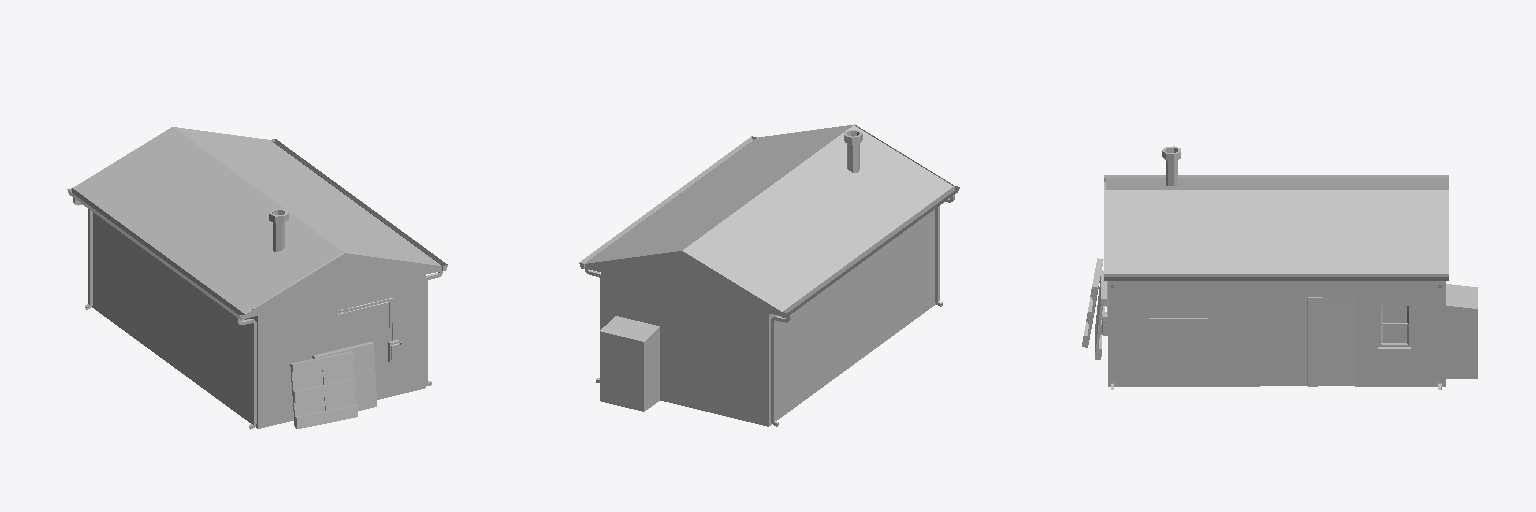
The model's file is Building7.obj.
The picture shows the model from 3 angles: view 1: azimuth 30°, elevation 25°; view 2: azimuth 150°, elevation 25°; view 3: azimuth 270°, elevation 25°; orthographic projection.
Parts seen in each view (by area): view 1: building_01_roof, building_01, Pallet.001, building_01_guttertop.001, Pallet, building_01_guttertop, building_01_gutter_tall.002, building_01_exhaustpipe, building_01_gutter_tall.003; view 2: building_01_roof, building_01, Propane_Storage, building_01_guttertop.001, building_01_guttertop, building_01_gutter_tall.003, building_01_exhaustpipe, building_01_gutter_tall.002; view 3: building_01_roof, building_01, Door_Shed_A.001, Propane_Storage, building_01_vent, building_01_guttertop, window_modern, building_01_guttertop.001, Pallet, Pallet.001, building_01_exhaustpipe.
Boxes of the visible parts, x1=… form: building_01_roof: x1=73, y1=127, x2=441, y2=318; building_01: x1=92, y1=212, x2=425, y2=428; Pallet.001: x1=290, y1=351, x2=357, y2=428; building_01_guttertop.001: x1=67, y1=188, x2=244, y2=320; Pallet: x1=312, y1=342, x2=376, y2=410; building_01_guttertop: x1=271, y1=139, x2=447, y2=270; building_01_gutter_tall.002: x1=236, y1=315, x2=256, y2=429; building_01_exhaustpipe: x1=269, y1=209, x2=288, y2=251; building_01_gutter_tall.003: x1=73, y1=198, x2=92, y2=309; building_01_roof: x1=585, y1=124, x2=953, y2=315; building_01: x1=601, y1=209, x2=935, y2=426; Propane_Storage: x1=600, y1=316, x2=659, y2=411; building_01_guttertop.001: x1=782, y1=186, x2=959, y2=317; building_01_guttertop: x1=579, y1=136, x2=756, y2=268; building_01_gutter_tall.003: x1=771, y1=312, x2=790, y2=426; building_01_exhaustpipe: x1=844, y1=130, x2=862, y2=172; building_01_gutter_tall.002: x1=935, y1=195, x2=954, y2=306; building_01_roof: x1=1104, y1=178, x2=1448, y2=273; building_01: x1=1108, y1=281, x2=1445, y2=386; Door_Shed_A.001: x1=1260, y1=297, x2=1354, y2=386; Propane_Storage: x1=1446, y1=284, x2=1477, y2=378; building_01_vent: x1=1149, y1=318, x2=1207, y2=362; building_01_guttertop: x1=1104, y1=274, x2=1448, y2=280; window_modern: x1=1378, y1=304, x2=1410, y2=346; building_01_guttertop.001: x1=1104, y1=175, x2=1448, y2=177; Pallet: x1=1095, y1=270, x2=1106, y2=359; Pallet.001: x1=1082, y1=258, x2=1103, y2=347; building_01_exhaustpipe: x1=1162, y1=146, x2=1180, y2=185.
Bounding box in the file's own units: 5.69 × 4.72 × 9.38.